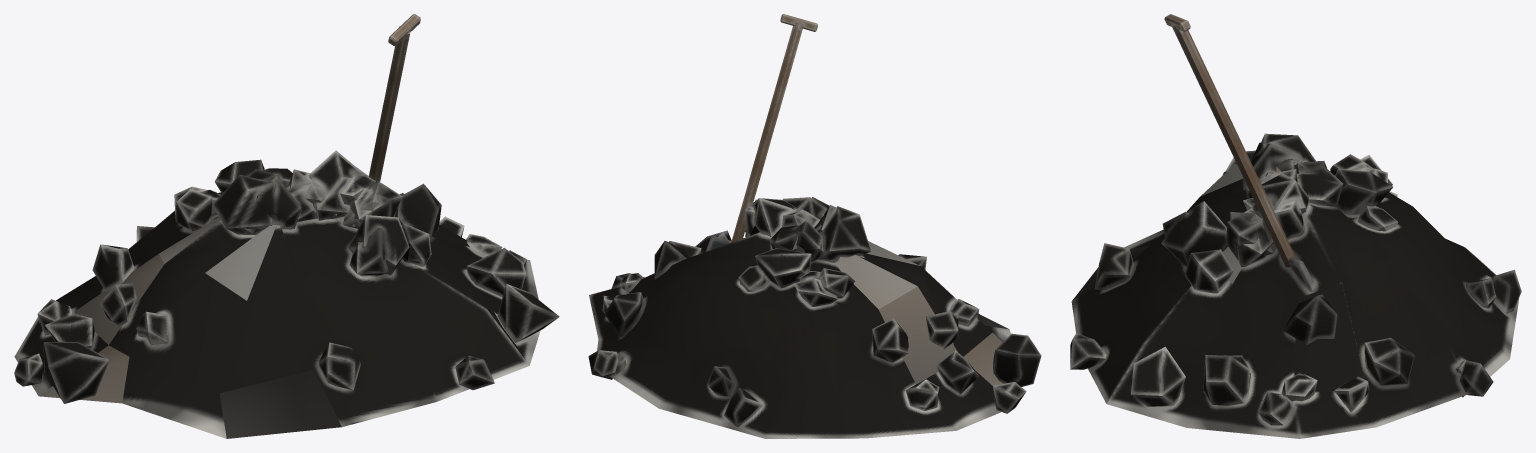
The model's file is foundry_coal_heap.glb.
3 renders of one model, left to right at view 1: azimuth 30°, elevation 25°; view 2: azimuth 150°, elevation 25°; view 3: azimuth 270°, elevation 25°, orthographic. The views are drawn at different scales.
Visible parts, largest first — view 1: foundry_coal_heap; view 2: foundry_coal_heap; view 3: foundry_coal_heap.
Part boxes in pixels (left/top/right/bottom): foundry_coal_heap: left=14, top=14, right=559, bottom=438; foundry_coal_heap: left=588, top=14, right=1041, bottom=438; foundry_coal_heap: left=1070, top=14, right=1521, bottom=438.
Bounding box in the file's own units: 2.12 × 1.37 × 1.61.
Materials: 1 (1 with a texture image).
